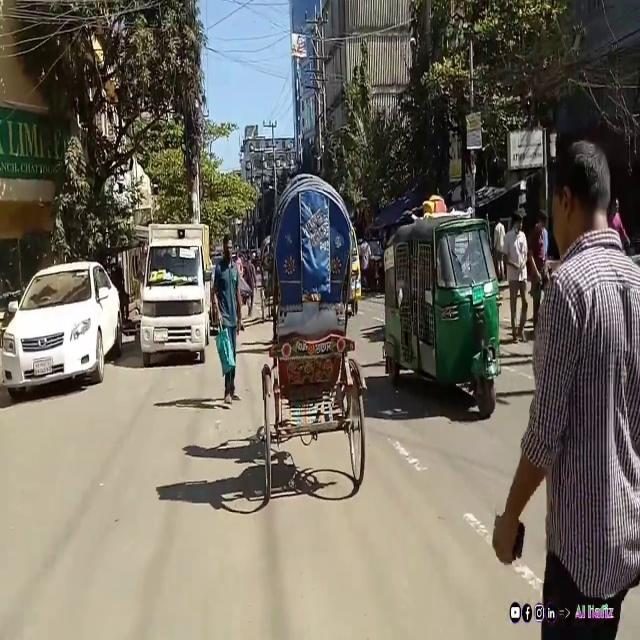white: (0, 258, 125, 404)
